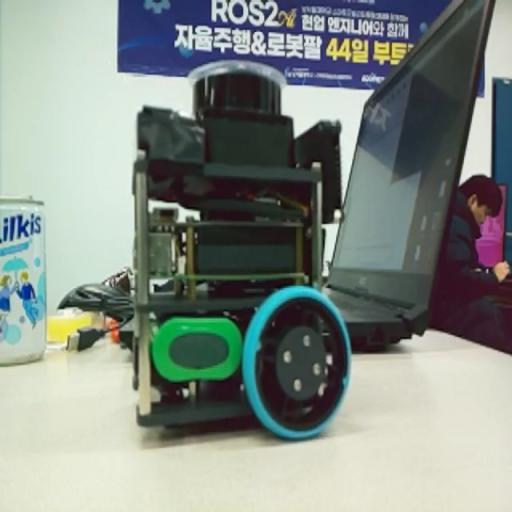pinky_63: (128, 60, 376, 454)
